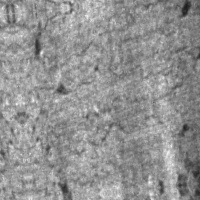crazing: (110, 17, 199, 109), (14, 28, 106, 102), (61, 92, 150, 156)
